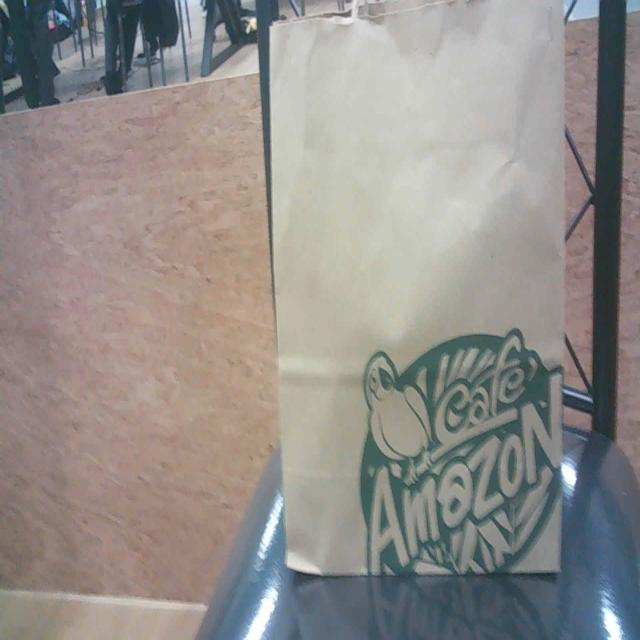bag: (268, 20, 560, 577)
